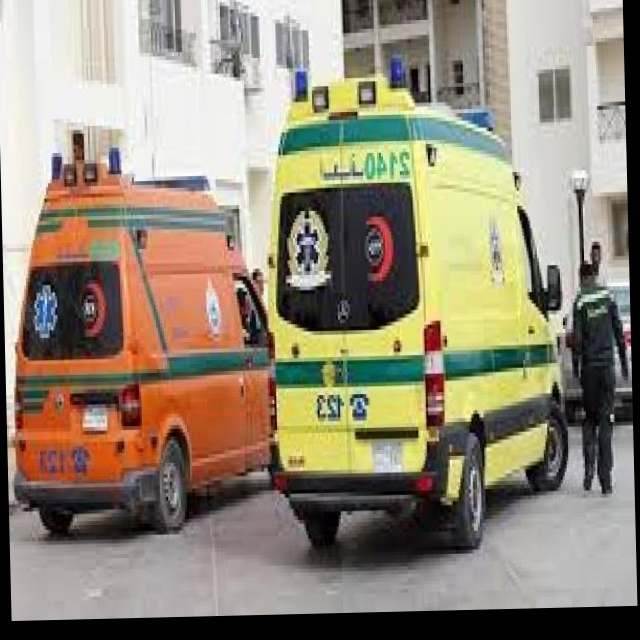Ambulance: (260, 51, 573, 555), (5, 118, 280, 538)
person: (572, 256, 633, 494)
